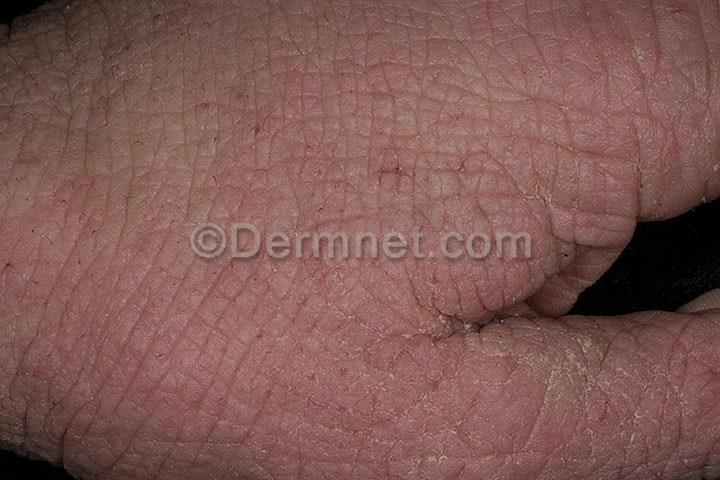eritema 1: (1, 0, 719, 479)
liquenificacion 2: (0, 0, 719, 479)
xerosis 1: (521, 159, 602, 219)
xerosis 2: (406, 326, 675, 474)
